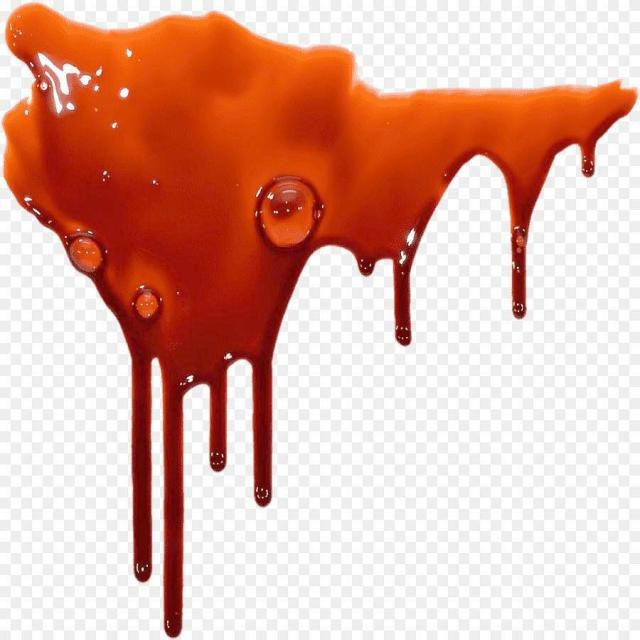flood: (0, 1, 640, 255), (124, 400, 284, 640), (69, 258, 299, 386)
